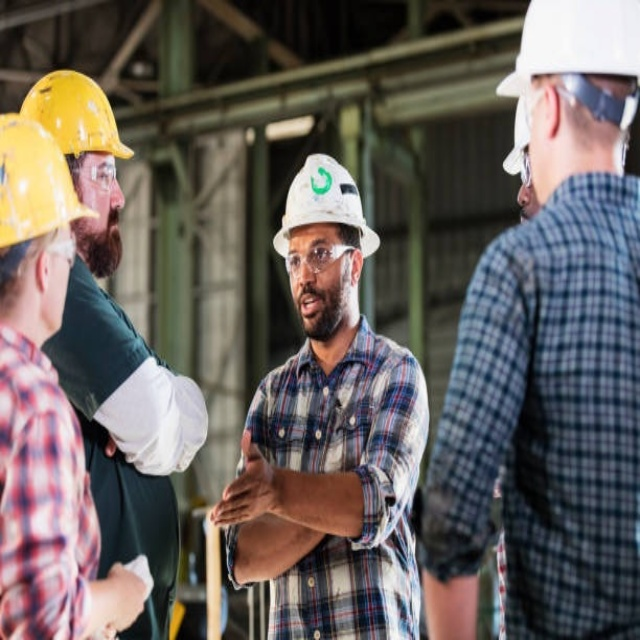Gafas: (288, 240, 357, 276), (35, 231, 77, 268), (71, 162, 118, 188), (519, 144, 530, 190)
Sin_guantes: (211, 431, 277, 529), (89, 555, 151, 638)
Sin_mascara: (94, 207, 125, 259), (295, 289, 327, 333)
